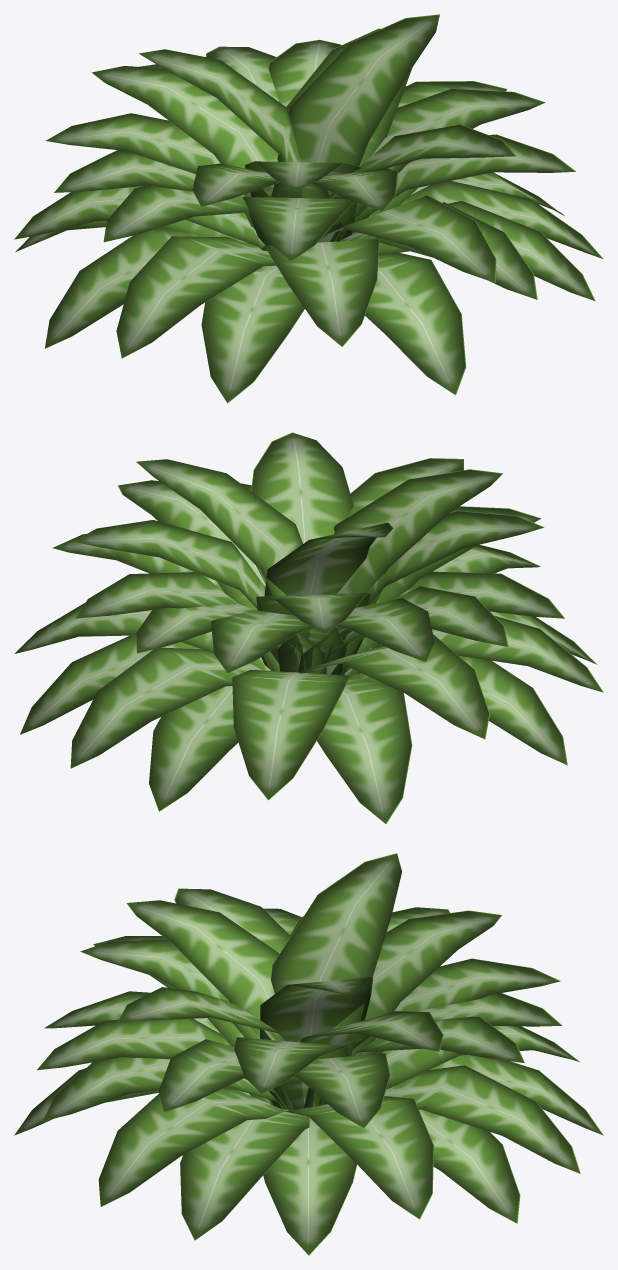
File: planta1.fbx
3 renders of one model, top to bottom at view 1: azimuth 30°, elevation 25°; view 2: azimuth 150°, elevation 25°; view 3: azimuth 270°, elevation 25°, orthographic. The views are drawn at different scales.
Visible parts, largest first — view 1: pPlane36, pPlane11, pPlane6, pPlane5, pPlane10, pPlane28, pPlane25, pPlane4, pPlane35, pPlane20, pPlane31, pPlane18 (+17 smaller); view 2: pPlane13, pPlane3, pPlane14, pPlane34, pPlane36, pPlane32, pPlane12, pPlane2, pPlane30, pPlane35, pPlane4, pPlane22 (+16 smaller); view 3: pPlane35, pPlane7, pPlane16, pPlane14, pPlane15, pPlane34, pPlane8, pPlane28, pPlane9, pPlane25, pPlane23, pPlane36 (+16 smaller).
Boxes of the visible parts, x1,y1,x2,y2 form: pPlane36: [277, 14, 439, 241]; pPlane11: [116, 236, 276, 358]; pPlane6: [365, 253, 466, 395]; pPlane5: [201, 265, 304, 403]; pPlane10: [262, 239, 379, 346]; pPlane28: [91, 66, 278, 196]; pPlane25: [318, 195, 496, 282]; pPlane4: [45, 228, 215, 348]; pPlane35: [139, 49, 300, 162]; pPlane20: [45, 113, 244, 196]; pPlane31: [339, 88, 545, 241]; pPlane18: [242, 196, 357, 261]; pPlane13: [232, 670, 349, 800]; pPlane3: [317, 677, 412, 823]; pPlane14: [70, 647, 262, 768]; pPlane34: [331, 469, 502, 674]; pPlane36: [136, 459, 302, 672]; pPlane32: [251, 432, 353, 583]; pPlane12: [300, 634, 489, 739]; pPlane2: [149, 686, 238, 811]; pPlane30: [73, 520, 298, 670]; pPlane35: [264, 522, 393, 596]; pPlane4: [352, 656, 567, 765]; pPlane22: [76, 572, 306, 669]; pPlane35: [271, 853, 401, 1056]; pPlane7: [98, 1087, 285, 1206]; pPlane16: [180, 1109, 309, 1240]; pPlane14: [384, 1065, 580, 1173]; pPlane15: [285, 1096, 433, 1219]; pPlane34: [126, 900, 282, 1109]; pPlane8: [263, 1118, 357, 1255]; pPlane28: [351, 910, 501, 1055]; pPlane9: [419, 1109, 520, 1223]; pPlane25: [37, 1018, 287, 1109]; pPlane23: [269, 1053, 390, 1127]; pPlane36: [260, 977, 373, 1042].
Bounding box in the file's own units: 3.94 × 1.65 × 3.94.
